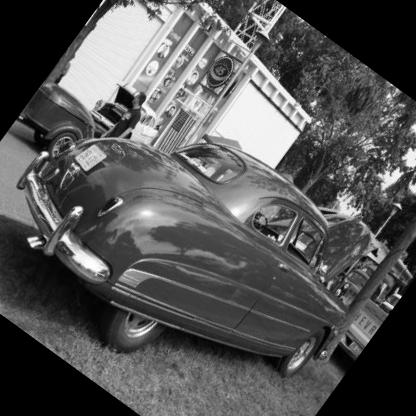car: (1, 39, 412, 416)
